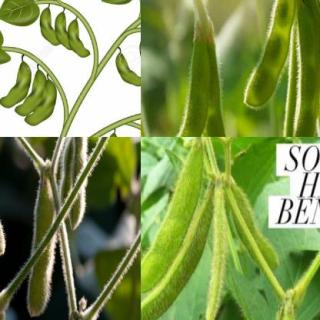soya: (141, 137, 203, 290), (141, 192, 212, 320), (243, 0, 296, 111), (164, 39, 211, 136), (232, 179, 281, 268), (27, 187, 56, 318), (203, 42, 242, 136), (293, 4, 319, 136), (203, 192, 225, 320), (68, 137, 91, 229), (24, 80, 57, 127), (0, 62, 32, 110), (13, 71, 46, 116), (114, 53, 140, 88), (68, 20, 90, 58), (40, 7, 59, 45), (54, 11, 72, 51)
